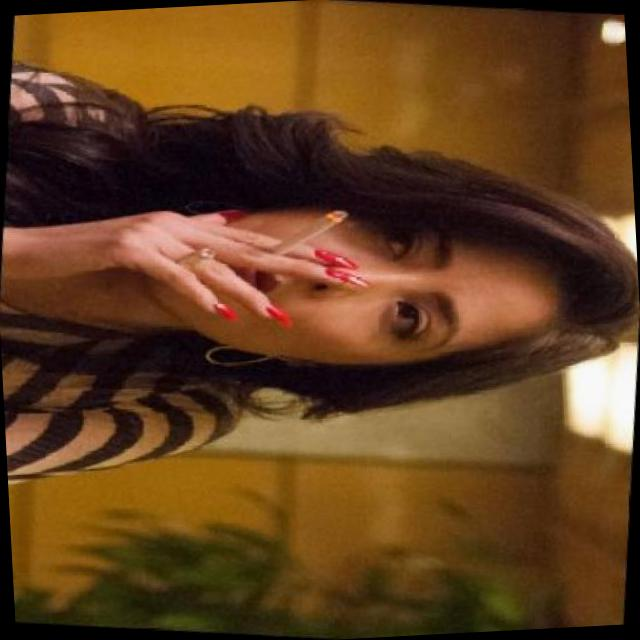cigarette: (266, 206, 354, 266)
